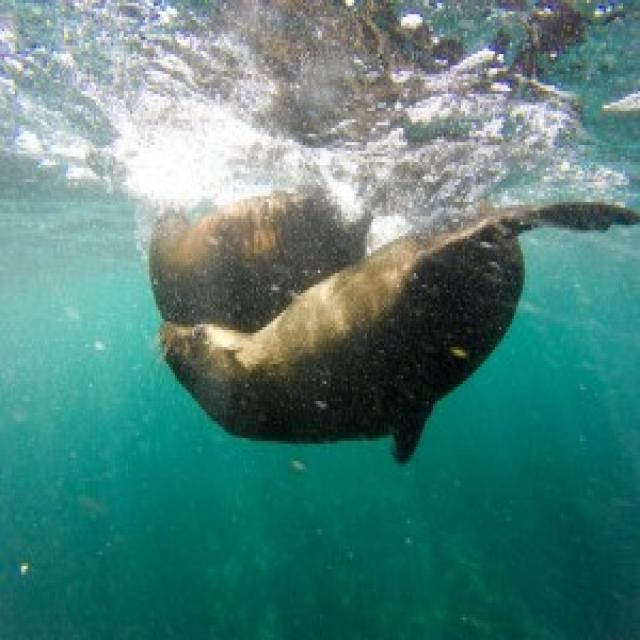Seal: (153, 267, 596, 448)
